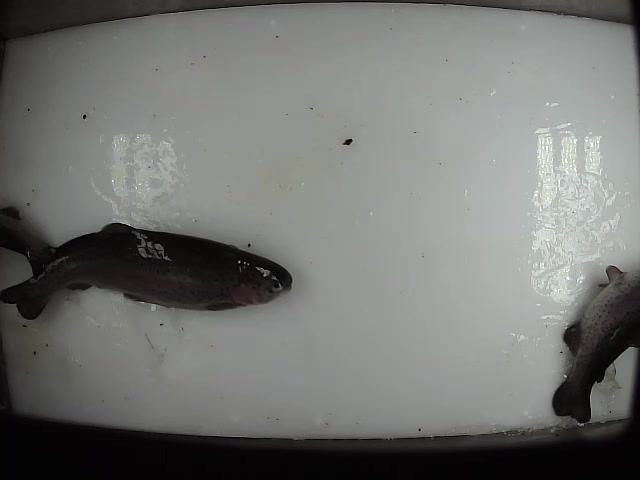fish: (1, 220, 296, 323), (550, 263, 640, 422)
